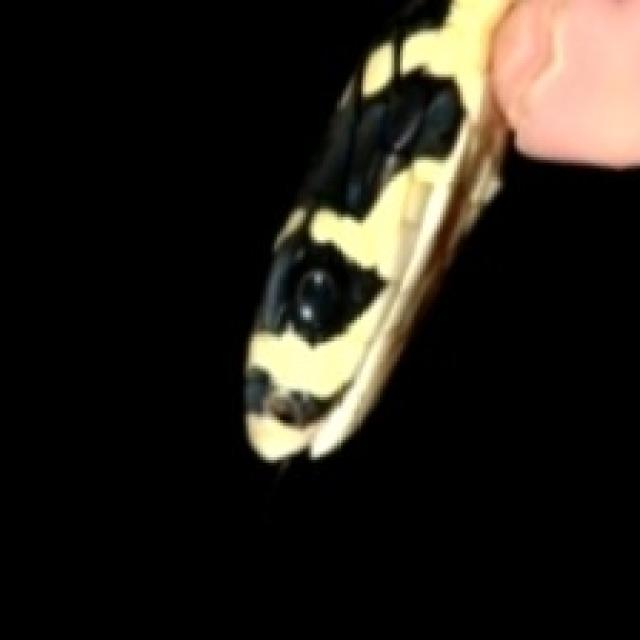king cobra: (243, 0, 637, 460), (243, 0, 509, 460)
